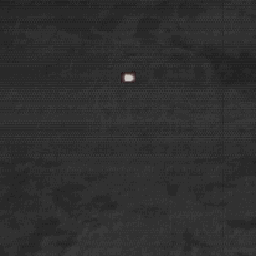Target: (122, 73, 135, 83)
